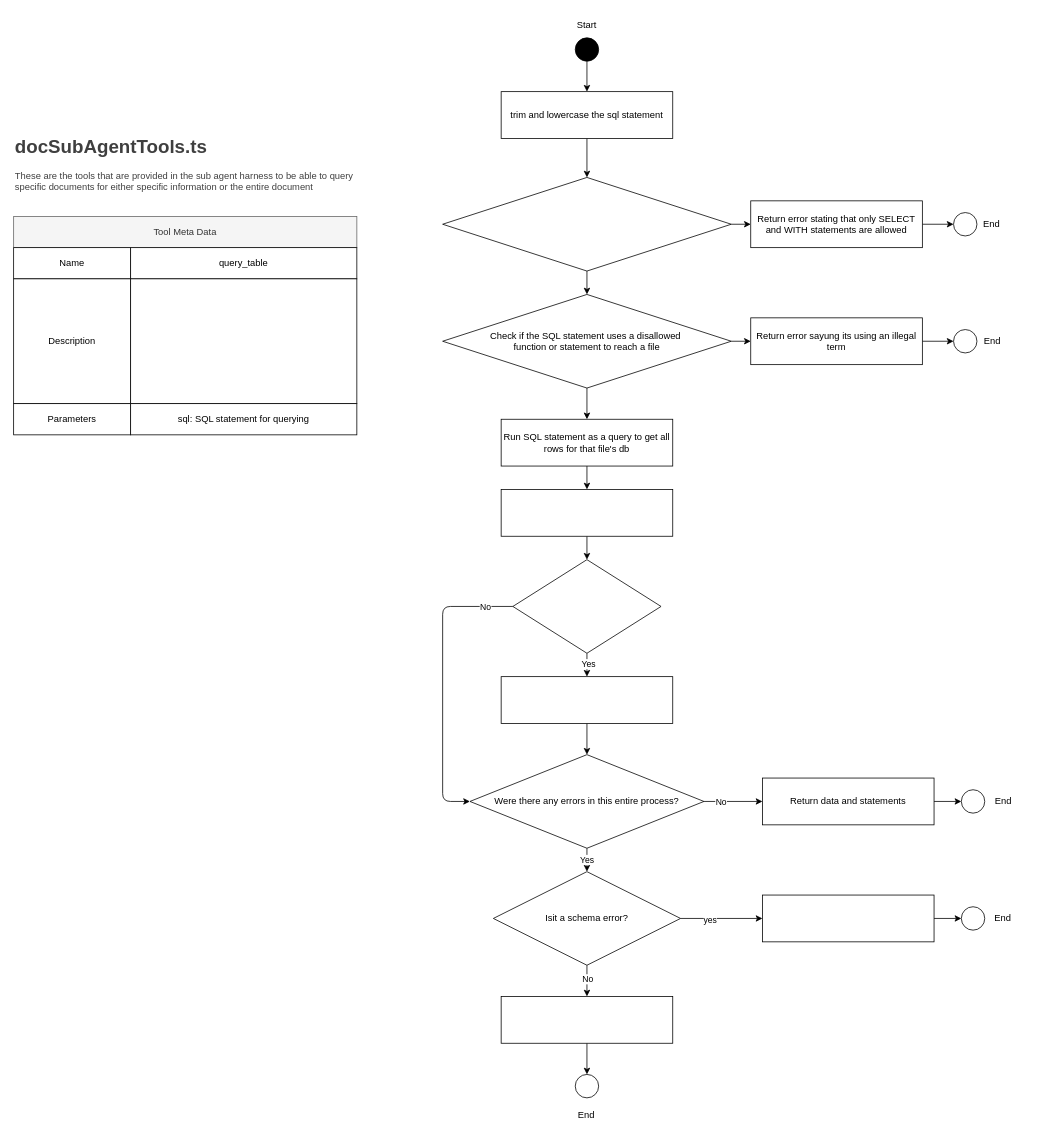
The diagram is 1041 pixels wide and 1140 high, and some of its shapes have lost their labels. Here are the shapes that lost their labels. From the top down, the centre of each, then its label:
(586,224): Does the SQL statement start with SELECT or WITH
(243,341): Run an SQL query to answer an asked question to a related structured data file
(586,512): Truncate the rows if its > 200
(586,606): Was the text truncated?
(586,699): Create a notice statement to tell the agent that it was truncated
(848,918): Return table information ie names and columns
(586,1019): Return original error as is
